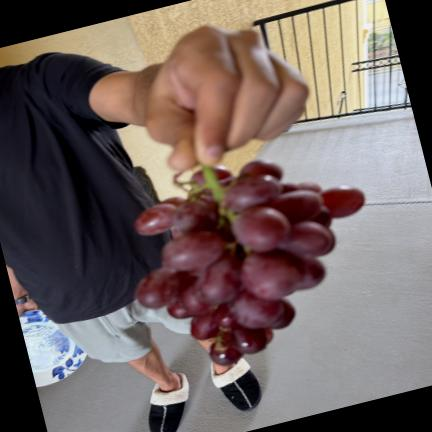grape_cluster: (135, 160, 364, 365)
